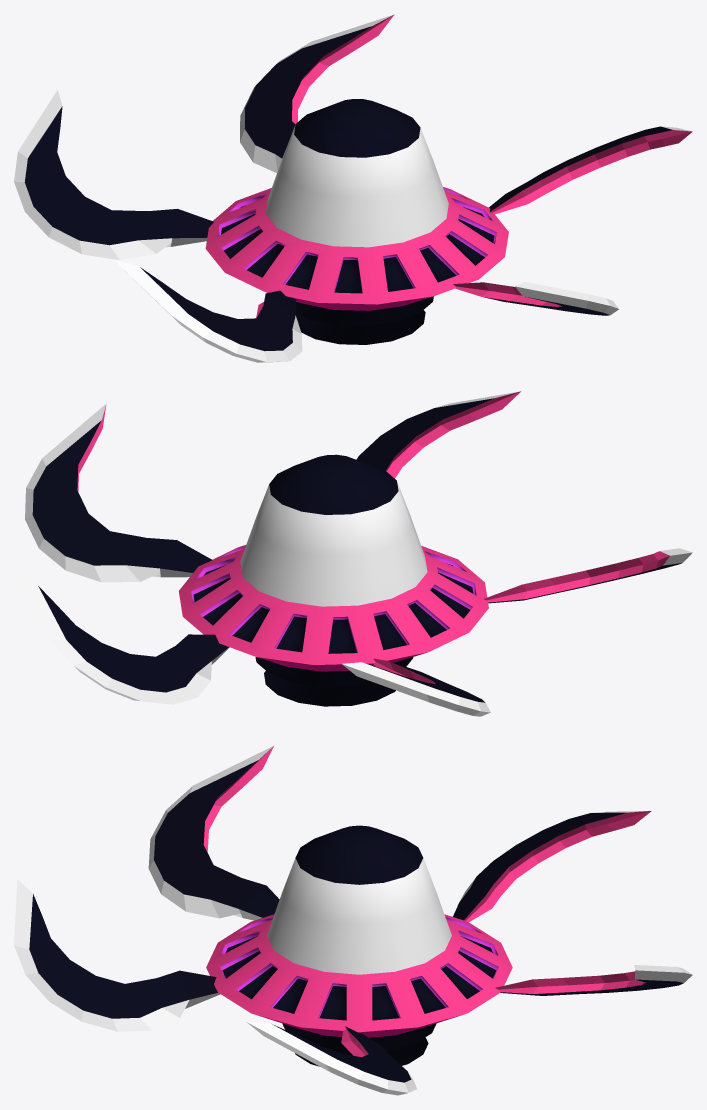
Rendered from flymech.fbx.
The picture shows the model from 3 angles, top to bottom: view 1: azimuth 30°, elevation 25°; view 2: azimuth 150°, elevation 25°; view 3: azimuth 270°, elevation 25°; orthographic projection. The views are drawn at different scales.
Parts seen in each view (by area): view 1: Cylinder.003, bl;ade; view 2: Cylinder.003, bl;ade; view 3: Cylinder.003, bl;ade.
Part boxes in pixels (bbox=[...]): Cylinder.003: bbox=[205, 99, 508, 344]; bl;ade: bbox=[14, 14, 692, 362]; Cylinder.003: bbox=[178, 454, 488, 706]; bl;ade: bbox=[14, 391, 692, 716]; Cylinder.003: bbox=[206, 825, 512, 1066]; bl;ade: bbox=[14, 746, 692, 1095].
Bounding box in the file's own units: 868 × 291 × 864.
